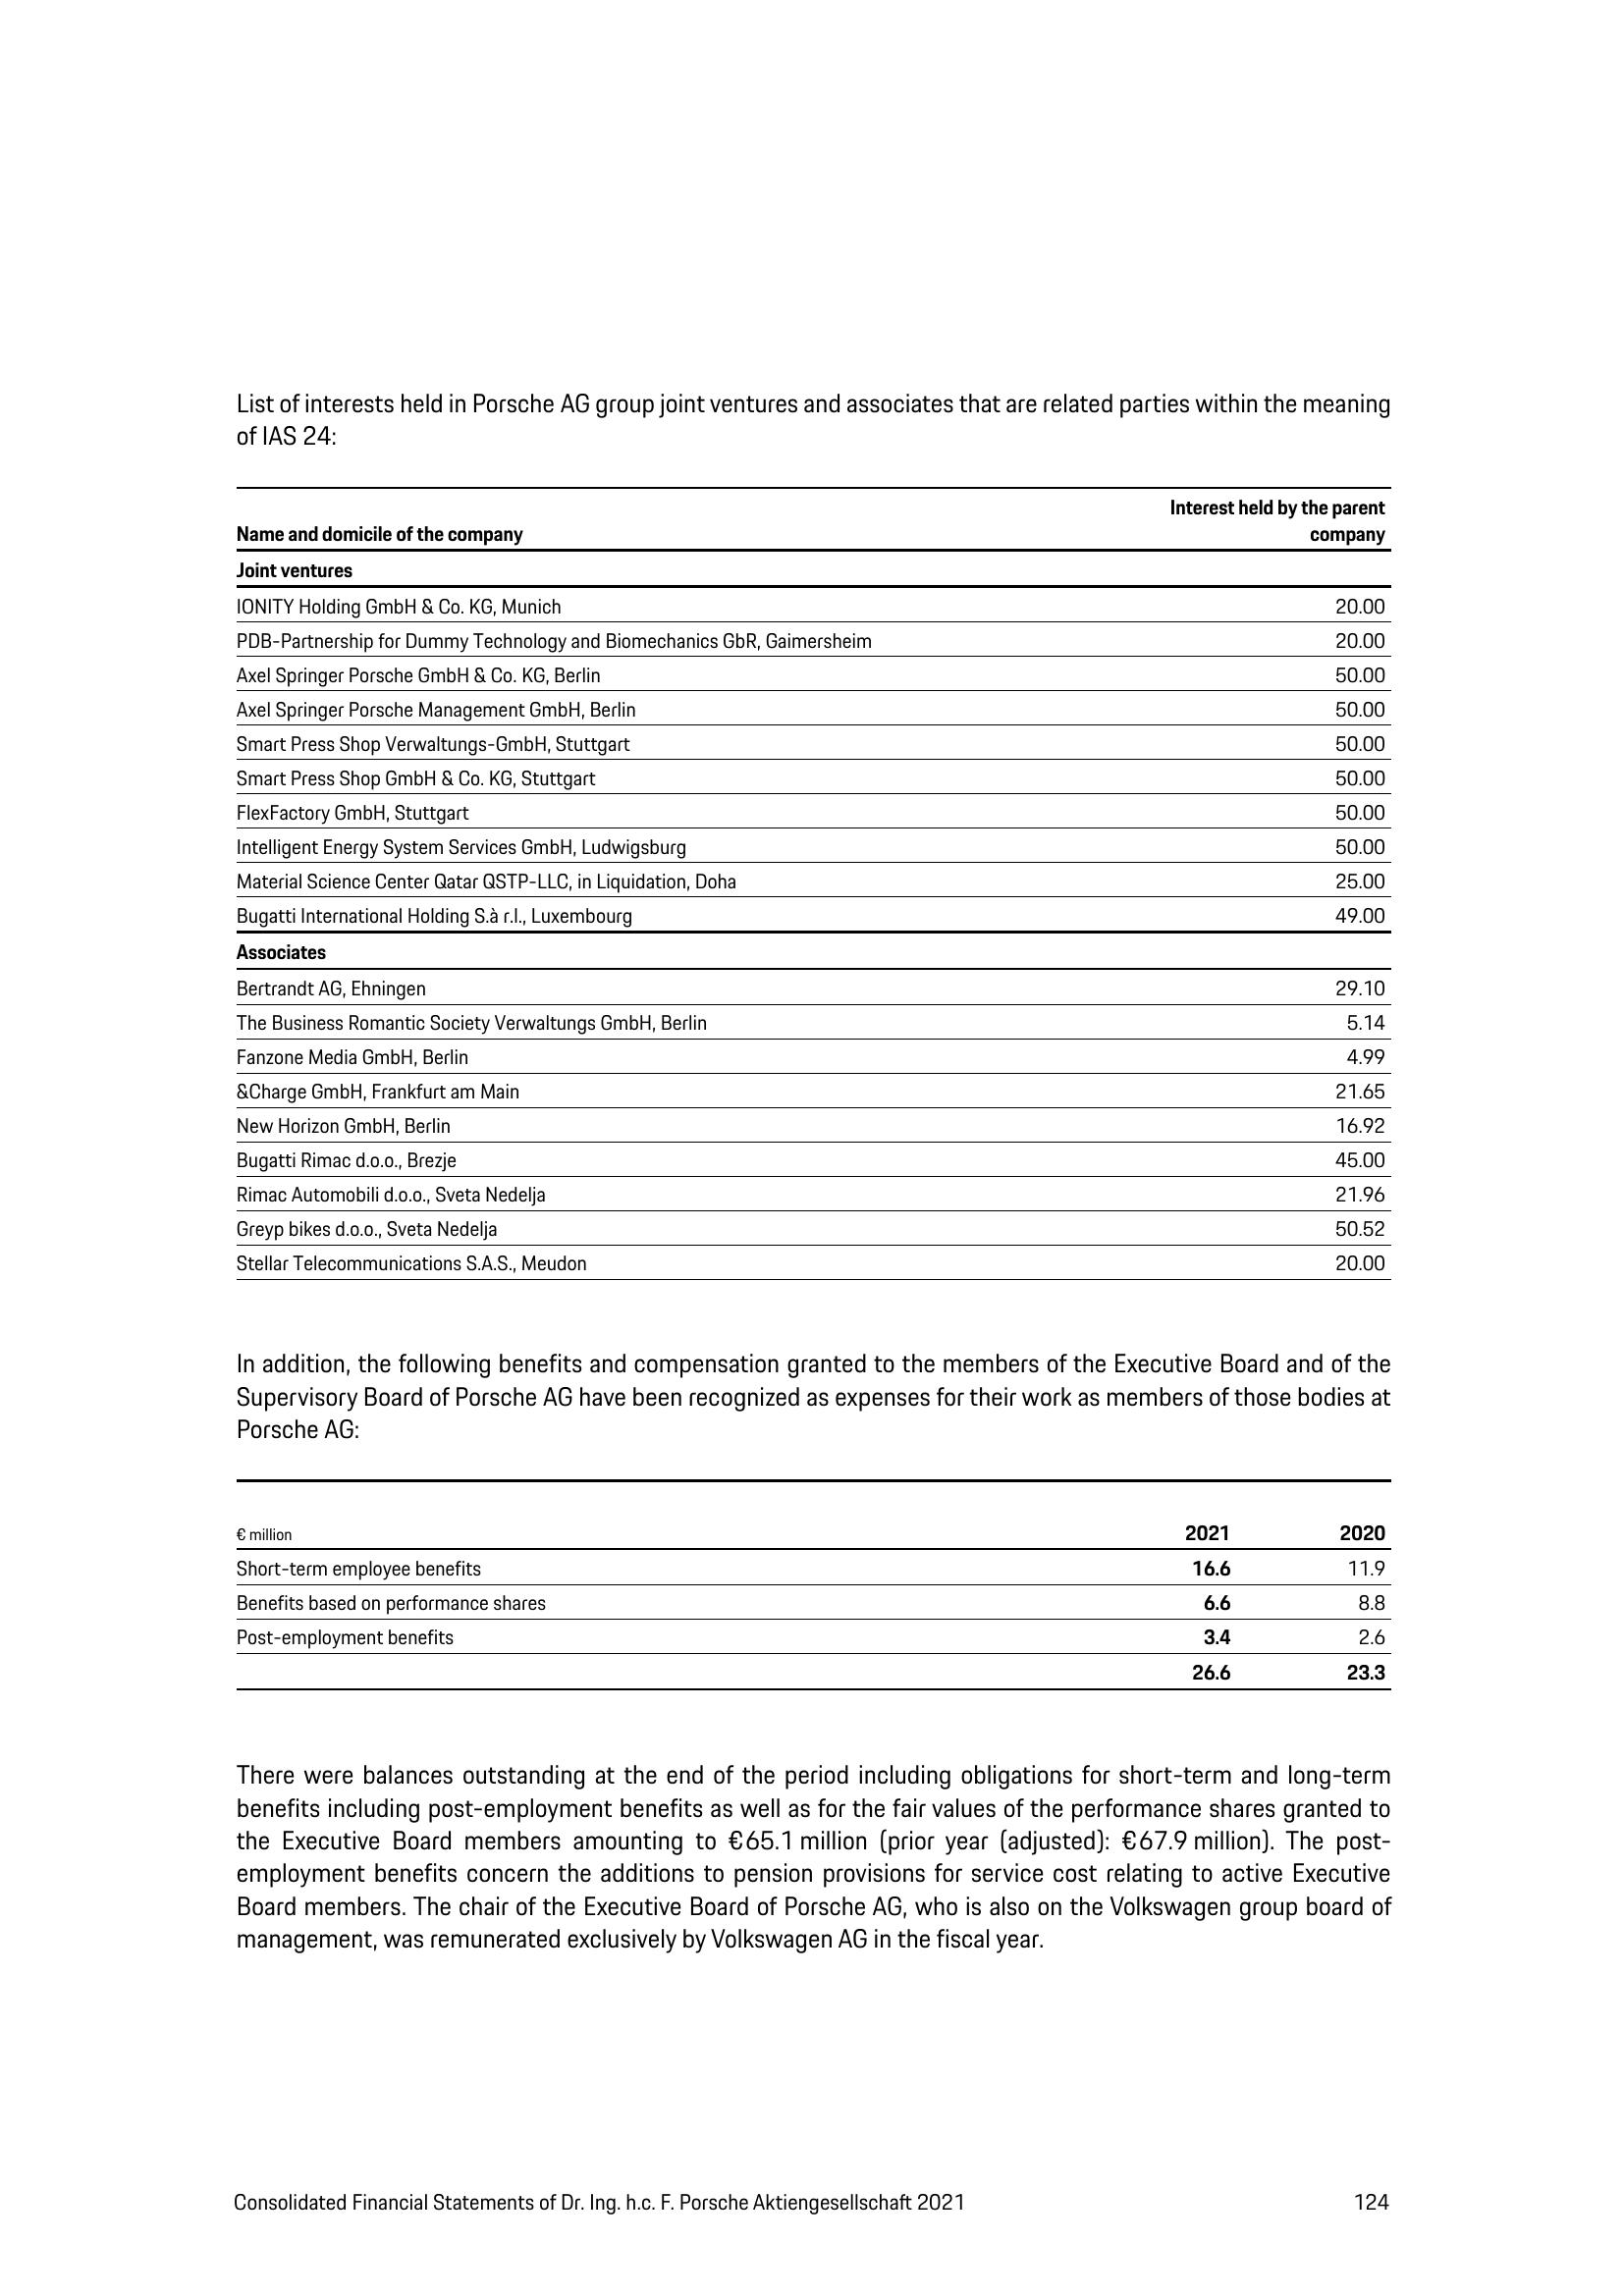Footer: (2, 2148, 1624, 2296)
Header: (0, 0, 1624, 264)
Table: (178, 483, 1429, 1284), (195, 1458, 1443, 1700)
